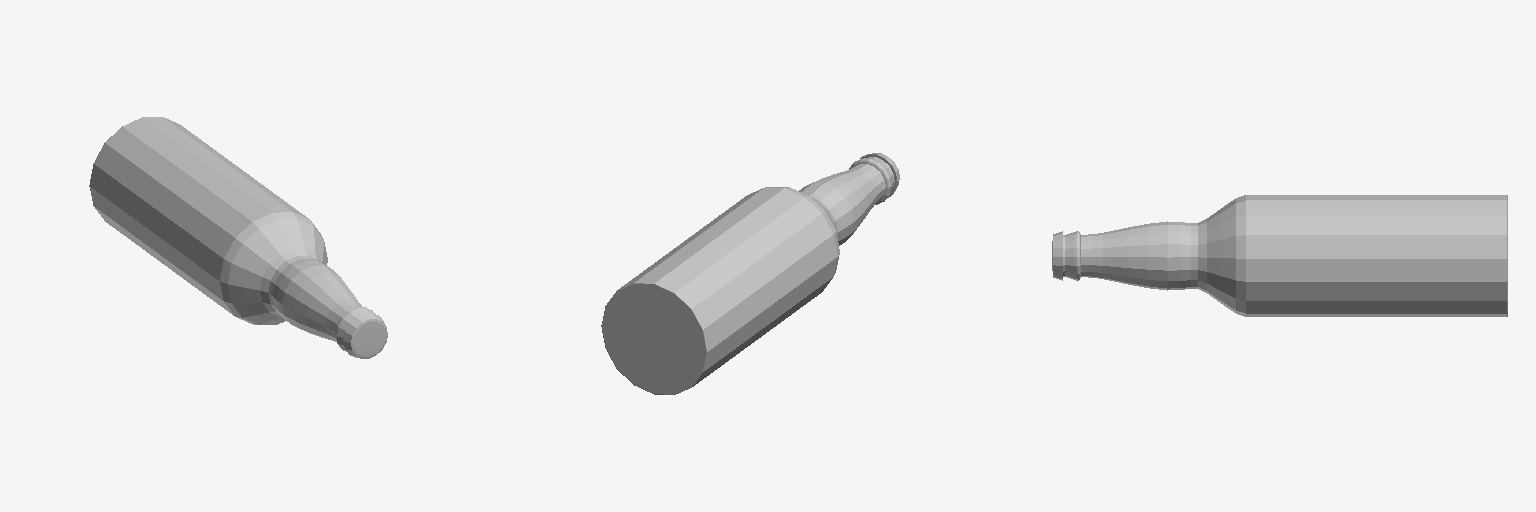
Rendered from bottle.obj.
The picture shows the model from 3 angles: view 1: azimuth 30°, elevation 25°; view 2: azimuth 150°, elevation 25°; view 3: azimuth 270°, elevation 25°; orthographic projection.
Parts seen in each view (by area): view 1: 22_oz; view 2: 22_oz; view 3: 22_oz.
Part boxes in pixels (bbox=[...]): 22_oz: bbox=[89, 117, 387, 358]; 22_oz: bbox=[601, 153, 899, 394]; 22_oz: bbox=[1052, 195, 1507, 316].
Size of the model in its own units: 8.08 by 8.08 by 29.95.